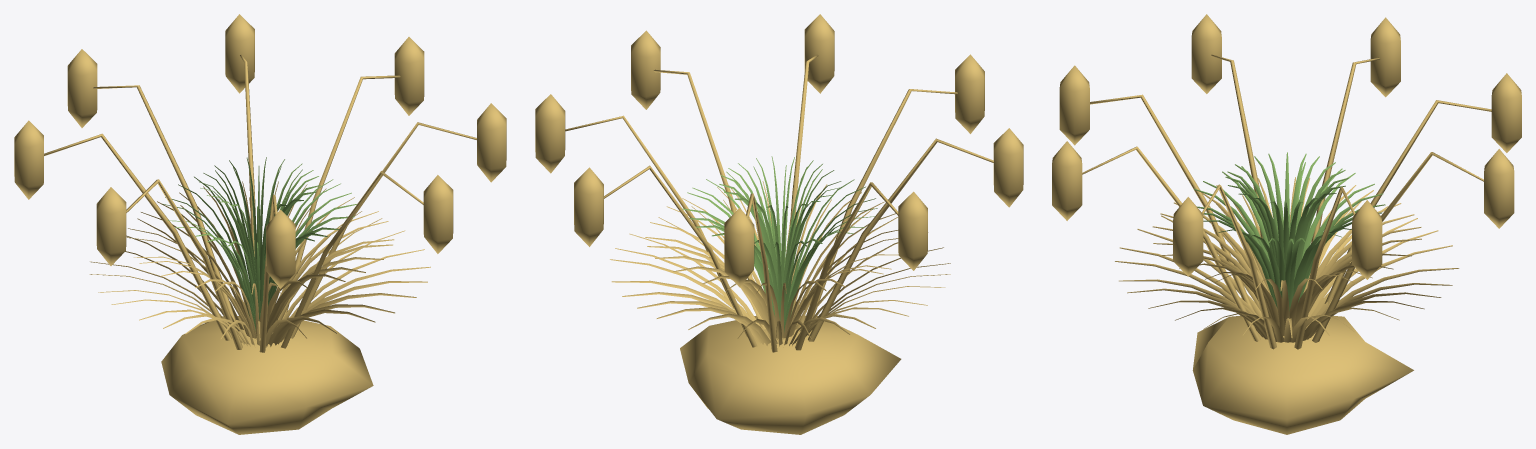
Rendered from grass_alpine_tussock.glb.
3 views of the same model, side by side, from view 1: azimuth 30°, elevation 25°; view 2: azimuth 150°, elevation 25°; view 3: azimuth 270°, elevation 25° (orthographic).
Visible parts, largest first — view 1: Flora_Alpine_Tussock; view 2: Flora_Alpine_Tussock; view 3: Flora_Alpine_Tussock.
Boxes of the visible parts, box(x1,y1,x2,y2) form: Flora_Alpine_Tussock: box(14, 14, 506, 434); Flora_Alpine_Tussock: box(535, 14, 1023, 434); Flora_Alpine_Tussock: box(1052, 14, 1521, 434).
Bounding box in the file's own units: 1.92 × 1.36 × 1.91.
